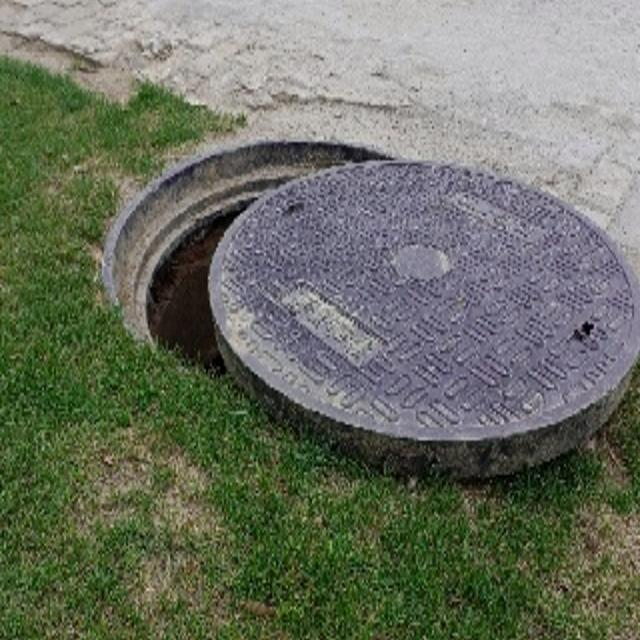uncovered: (97, 134, 640, 485)
